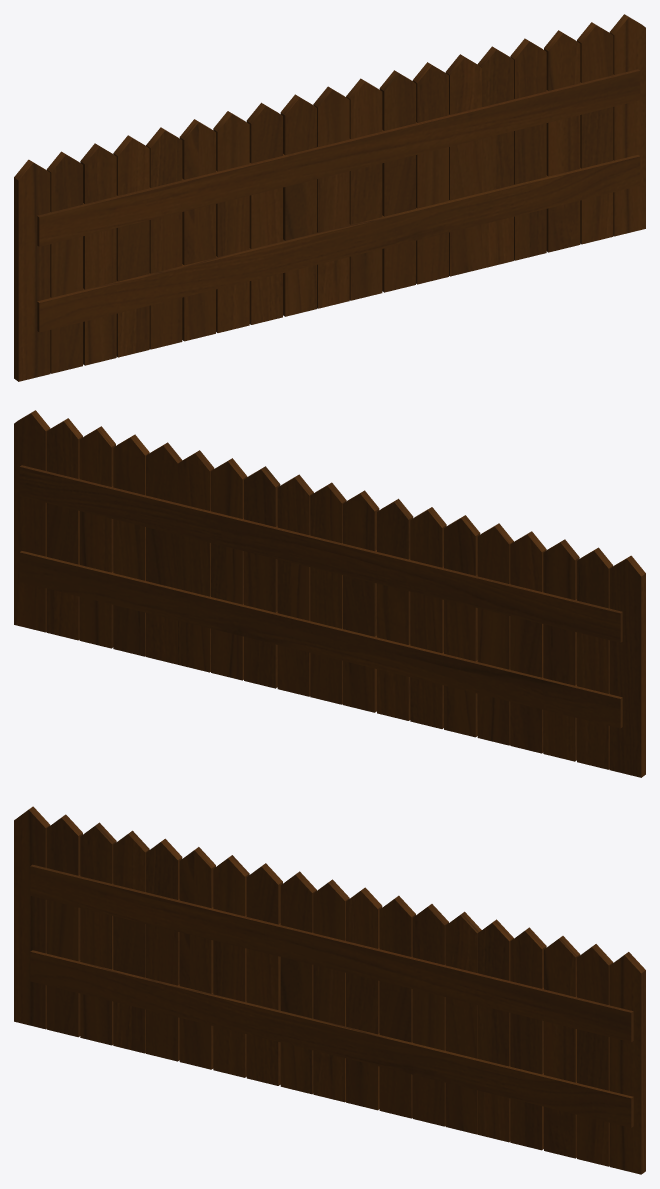
The model's file is fence.fbx.
3 views of the same model, one above another, from view 1: azimuth 30°, elevation 25°; view 2: azimuth 150°, elevation 25°; view 3: azimuth 330°, elevation 25° (orthographic).
Visible parts, largest first — view 1: pCube23; view 2: pCube23; view 3: pCube23.
Part boxes in pixels (bbox=[...]): pCube23: bbox=[14, 14, 645, 381]; pCube23: bbox=[14, 410, 645, 777]; pCube23: bbox=[14, 806, 645, 1174].
Bounding box in the file's own units: 97.87 × 32.13 × 2.43.
1 material, 1 textured.
